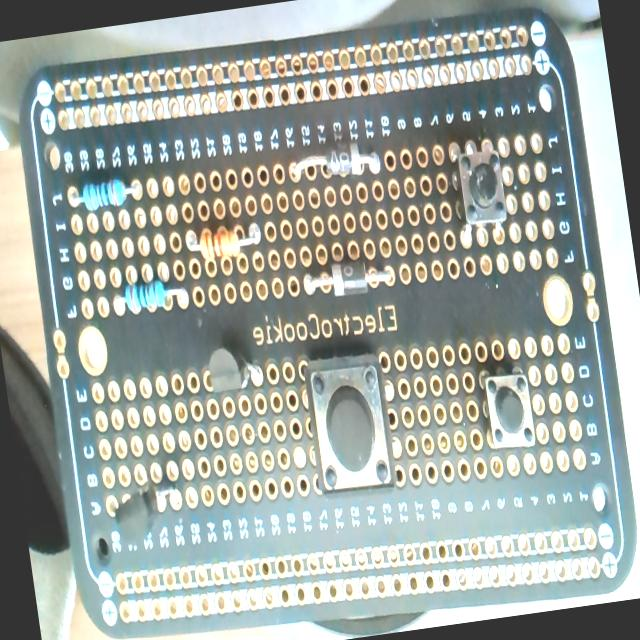diode: (290, 140, 384, 188), (304, 258, 395, 300)
resistor: (185, 220, 262, 264), (68, 173, 142, 214), (118, 276, 179, 316)
switch: (303, 354, 396, 496), (480, 366, 537, 452), (454, 141, 509, 230)
transistor: (106, 465, 194, 557), (202, 342, 268, 397)
